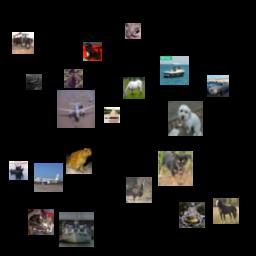airplane: (57, 90, 95, 128), (34, 163, 63, 192), (26, 74, 42, 90)
automobile: (207, 75, 229, 97)
cat: (28, 209, 54, 235)
deer: (126, 177, 152, 203)
dog: (158, 151, 193, 186), (168, 101, 203, 136), (83, 42, 102, 61)
frog: (66, 148, 92, 174), (179, 202, 205, 228), (125, 23, 141, 39)
ship: (59, 212, 94, 247), (160, 56, 189, 85), (9, 161, 28, 180), (104, 107, 120, 123)
truck: (12, 32, 34, 54)
